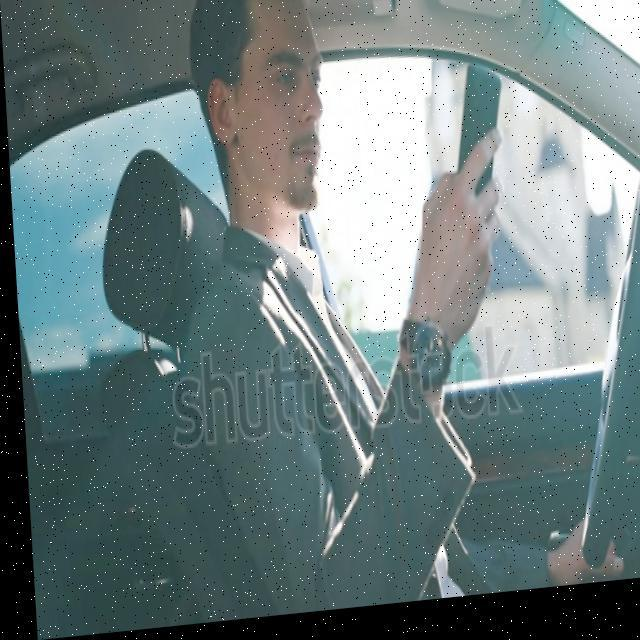PhoneCall: (450, 70, 504, 228)
